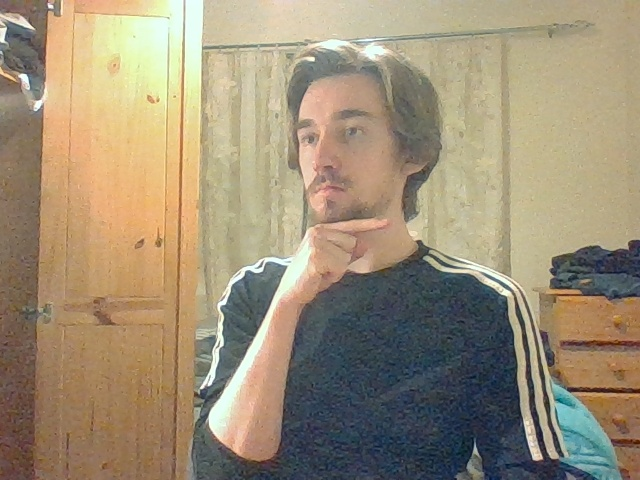son: (305, 217, 389, 285)
